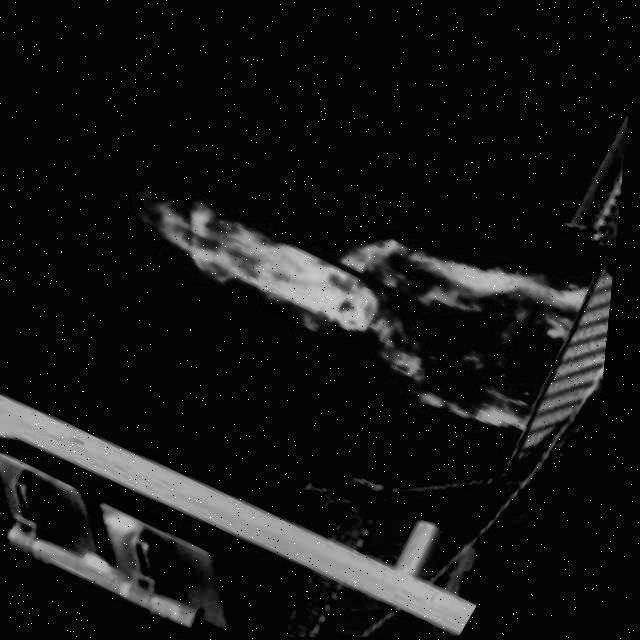Fire: (125, 173, 581, 450)
